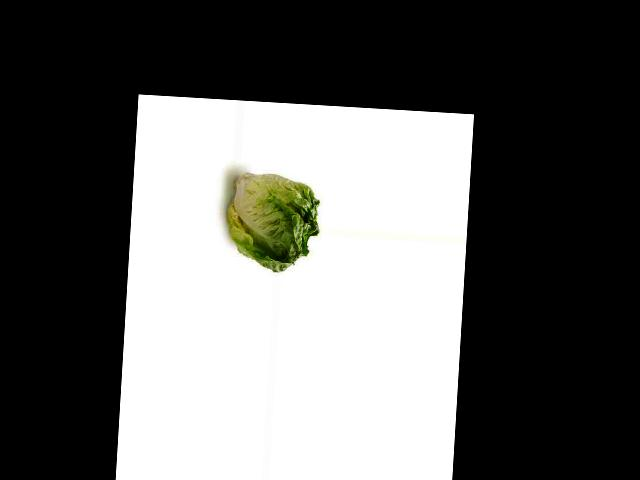lettuce: (231, 149, 330, 262)
